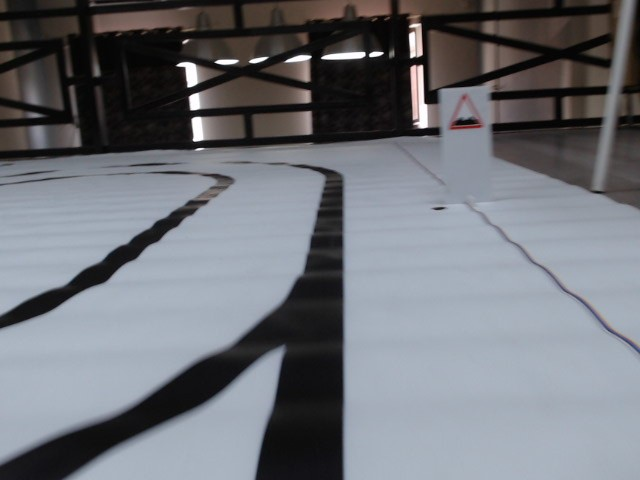Nerov: (449, 93, 484, 130)
